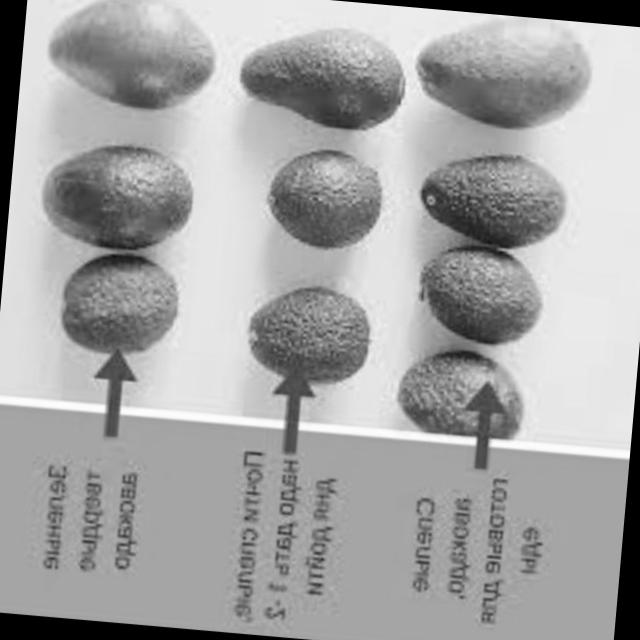bo: (26, 126, 220, 271), (29, 0, 229, 129), (408, 15, 610, 142), (239, 0, 407, 149), (415, 150, 596, 258), (403, 232, 555, 357), (230, 284, 376, 414), (38, 245, 179, 372), (258, 146, 391, 268), (387, 372, 528, 471)
